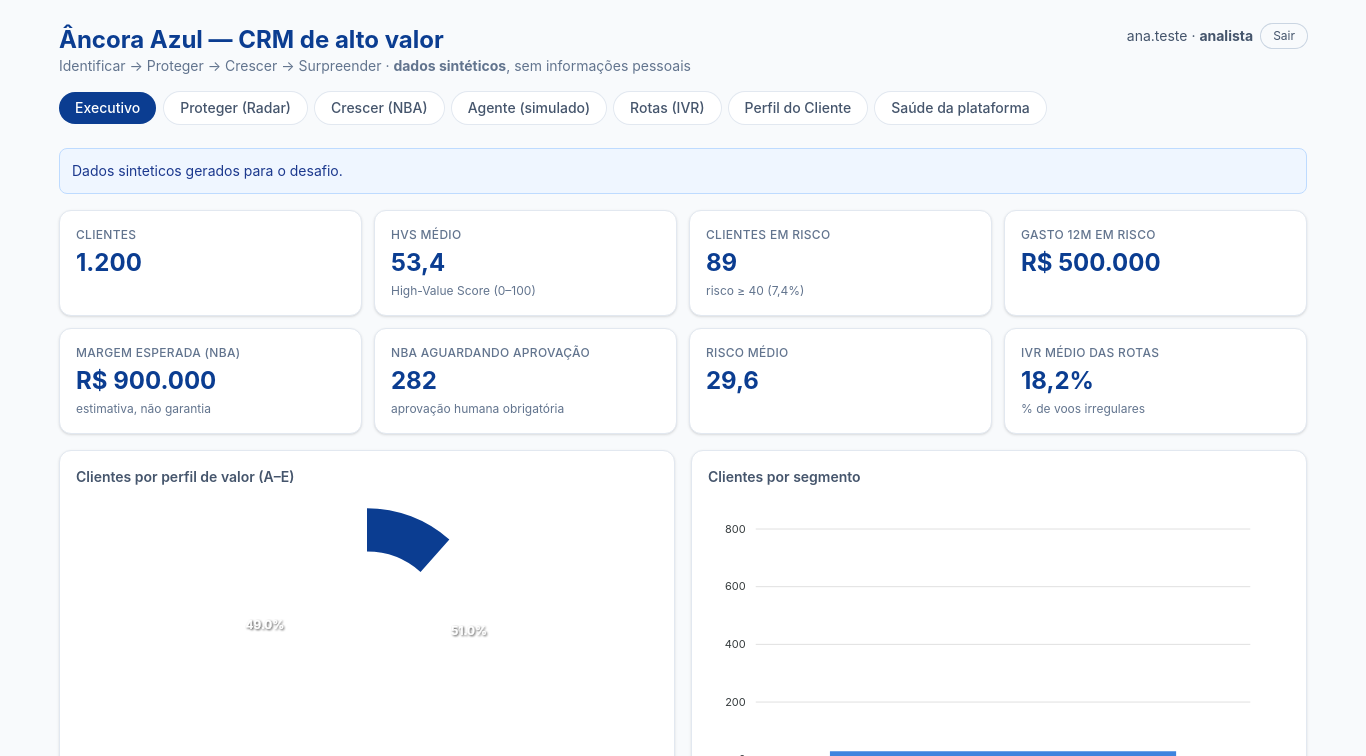
it: App › aba Proteger abre o perfil com a explicacao do HVS e do risco
Click the button "Proteger (Radar)" at coordinates (236, 108), box top-left (164, 92), bottom-right (307, 124)
(page scrolled)
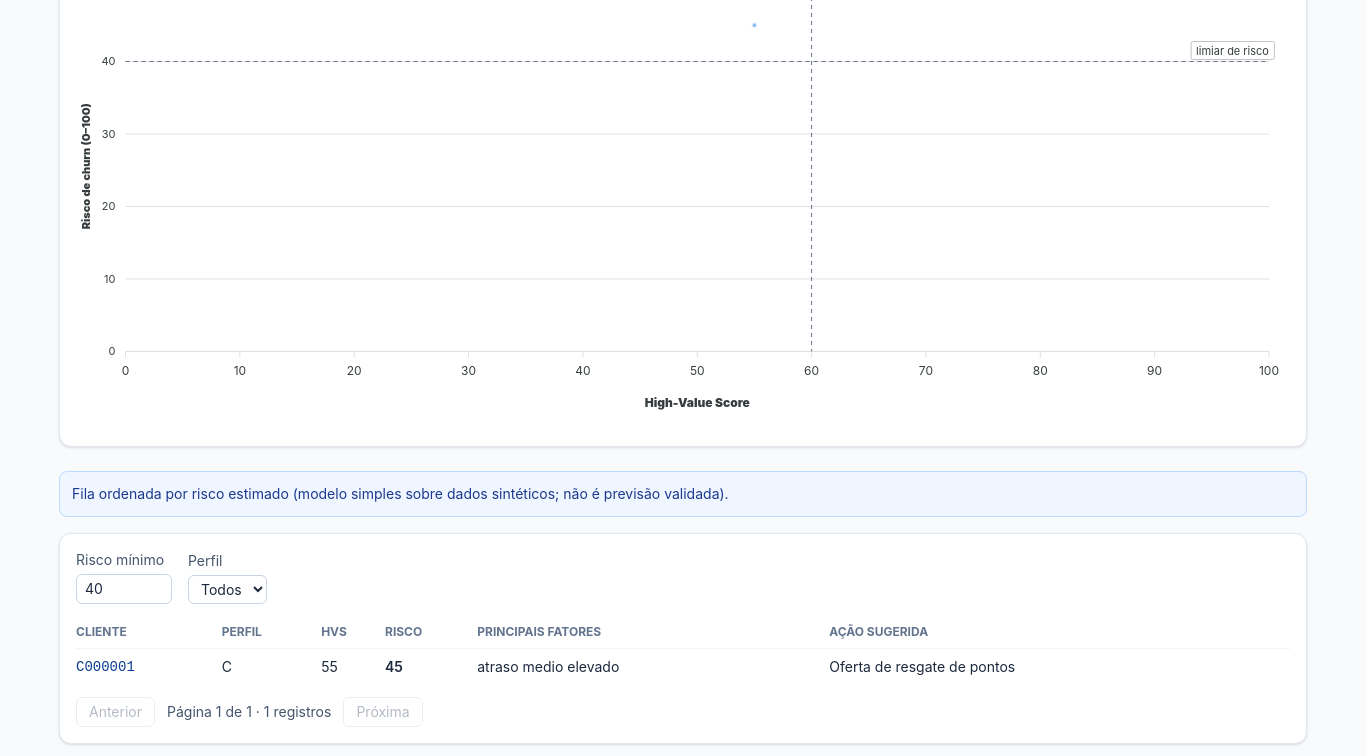
Click the text "C000001" at coordinates (105, 667), box top-left (76, 648), bottom-right (222, 685)
(page scrolled)
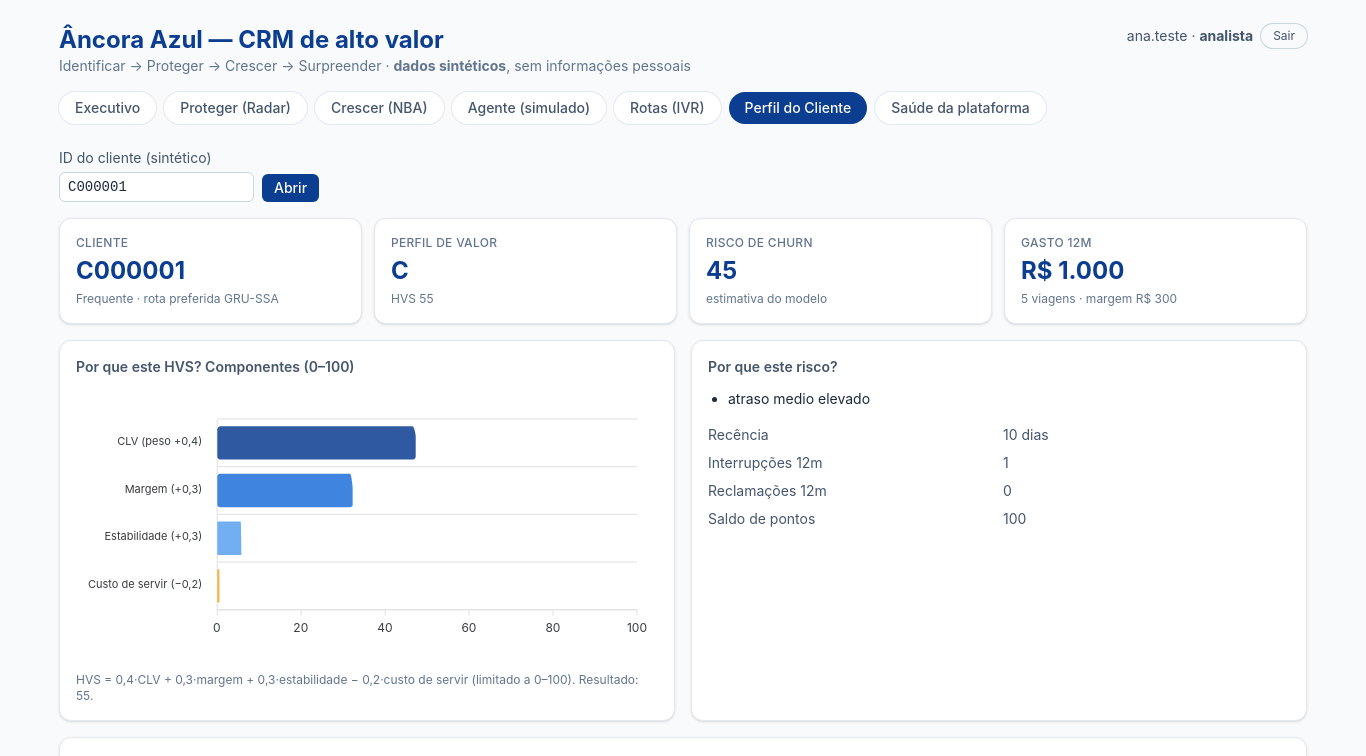
Result: the list item "atraso medio elevado" is shown at top-left (728, 390), bottom-right (870, 407)
Result: the heading "Por que este HVS? Componentes (0–100)" is shown at top-left (76, 358), bottom-right (355, 375)
